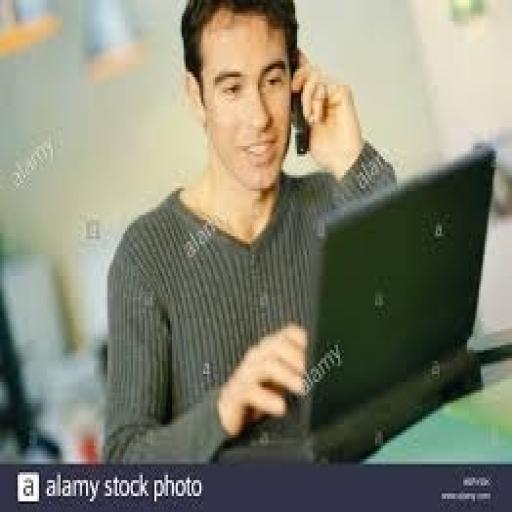using_laptop: (217, 140, 498, 462)
